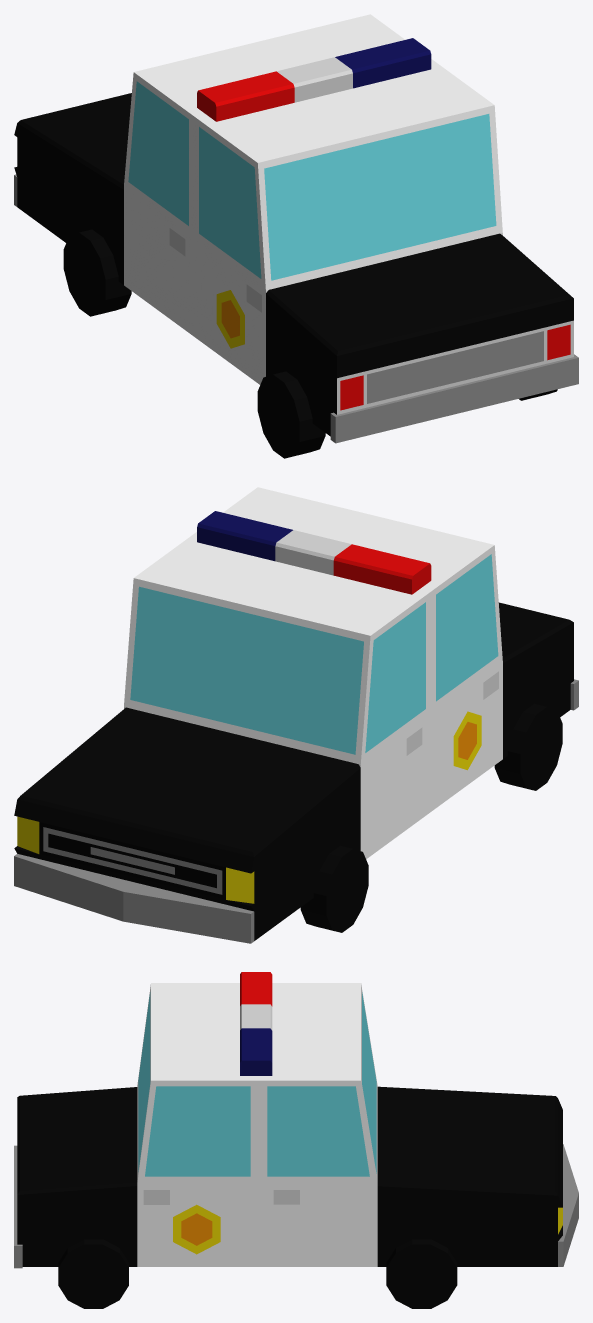
Rendered from Car_Police.fbx.
The picture shows the model from 3 angles, top to bottom: view 1: azimuth 30°, elevation 25°; view 2: azimuth 150°, elevation 25°; view 3: azimuth 270°, elevation 25°; orthographic projection. The views are drawn at different scales.
Visible parts, largest first — view 1: Model; view 2: Model; view 3: Model.
Boxes of the visible parts, <box> form: Model: <box>14,14,578,458</box>; Model: <box>14,487,578,943</box>; Model: <box>14,972,578,1308</box>.
Size of the model in its own units: 30.34 by 31.07 by 66.76.
